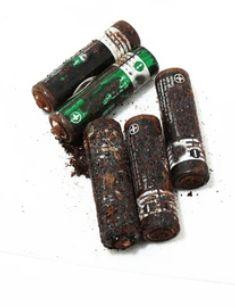battery: (155, 66, 211, 192)
